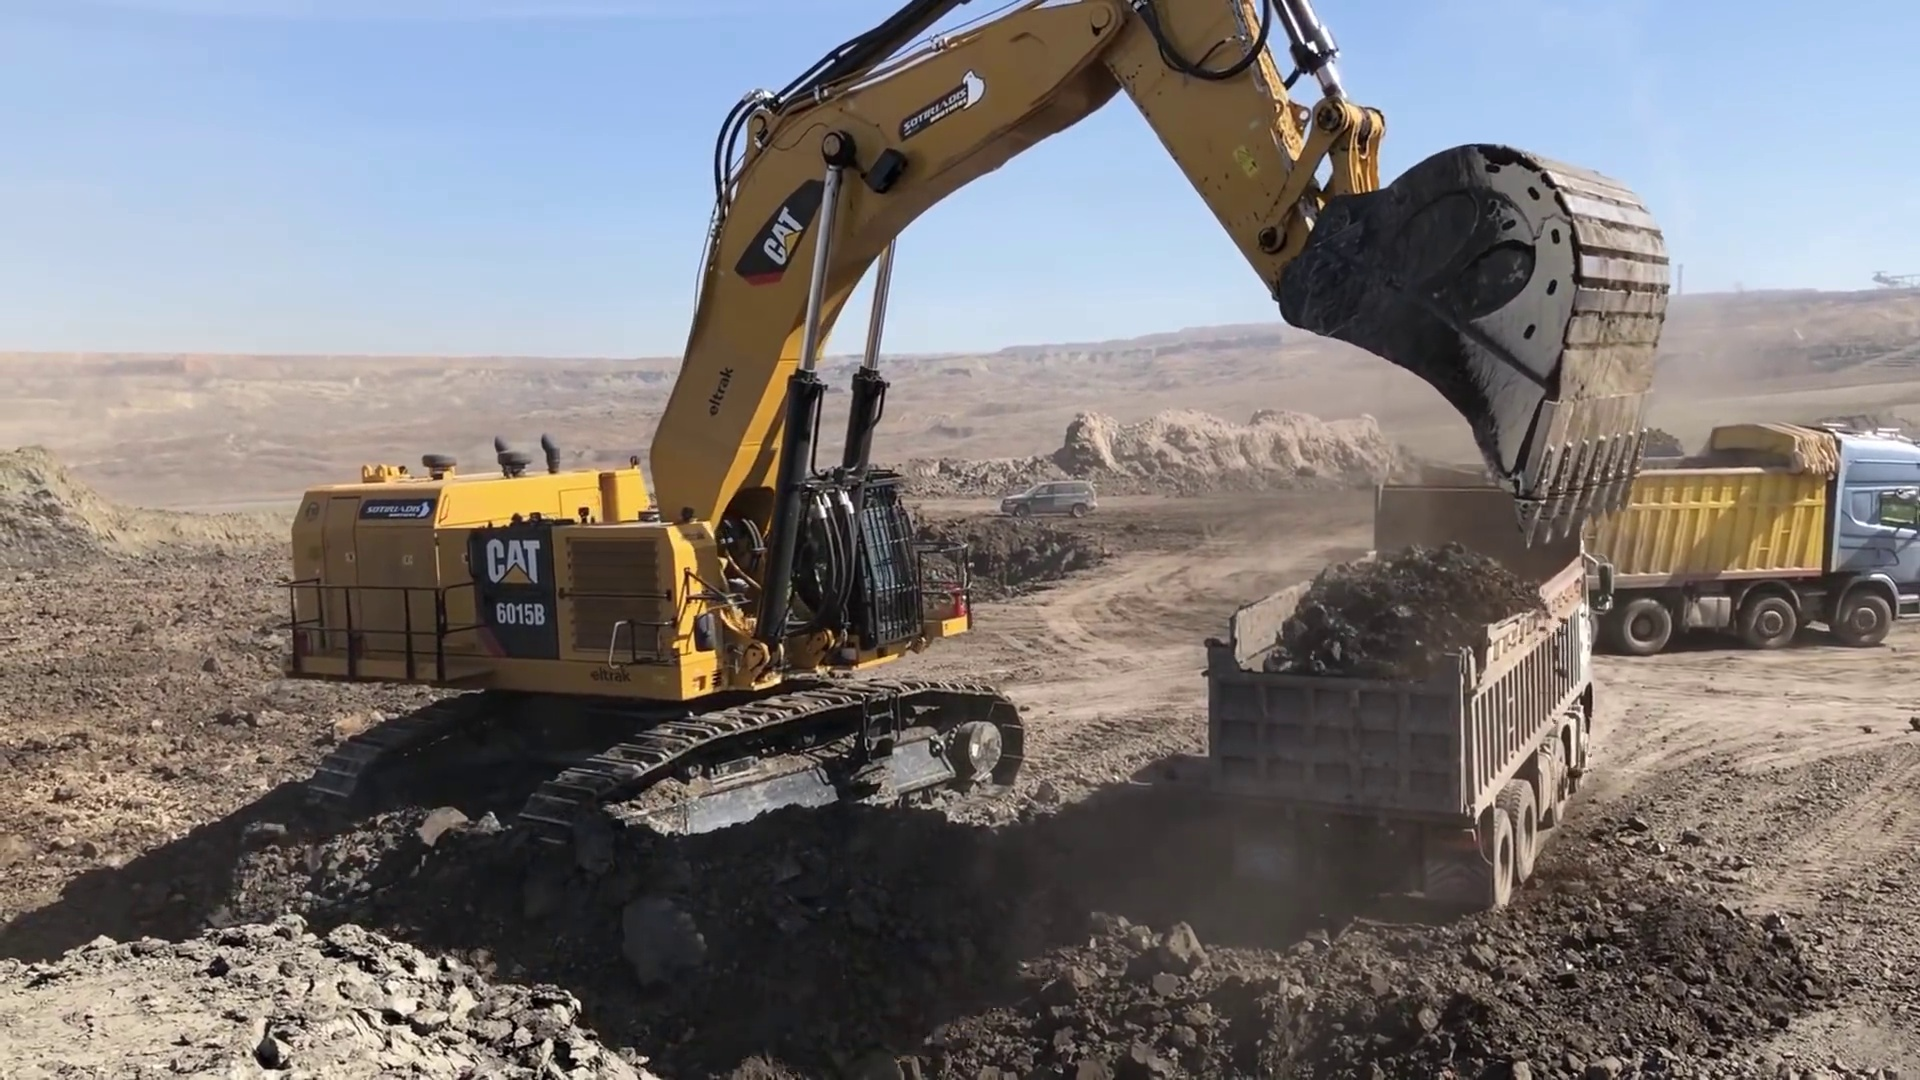car: (1004, 487, 1106, 516)
excavator: (280, 1, 1675, 894)
truck: (1207, 464, 1604, 920), (1365, 427, 1920, 647)
